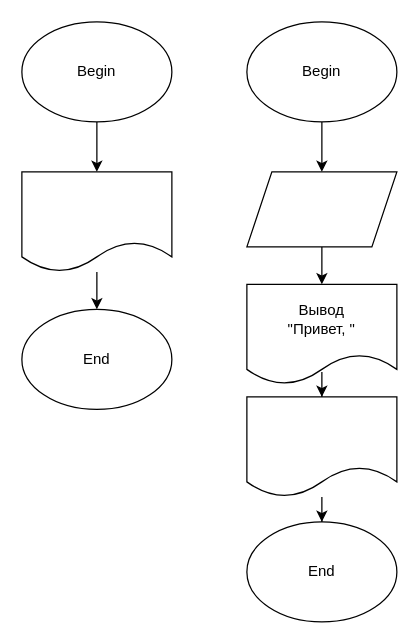
Image size: 419x644. Some labels were removed from this diagram. Here are the shapes that lost their labels. From the top down, the box of each, then its label:
(21, 171, 172, 272): Вывод в консоль "Hello World"
(246, 171, 397, 247): Ввод username
(246, 396, 397, 497): Вывод username
